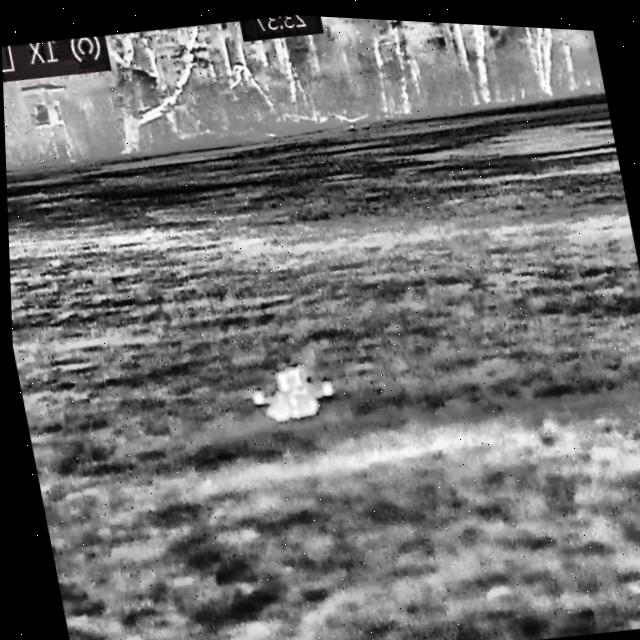drone: (244, 354, 337, 425)
